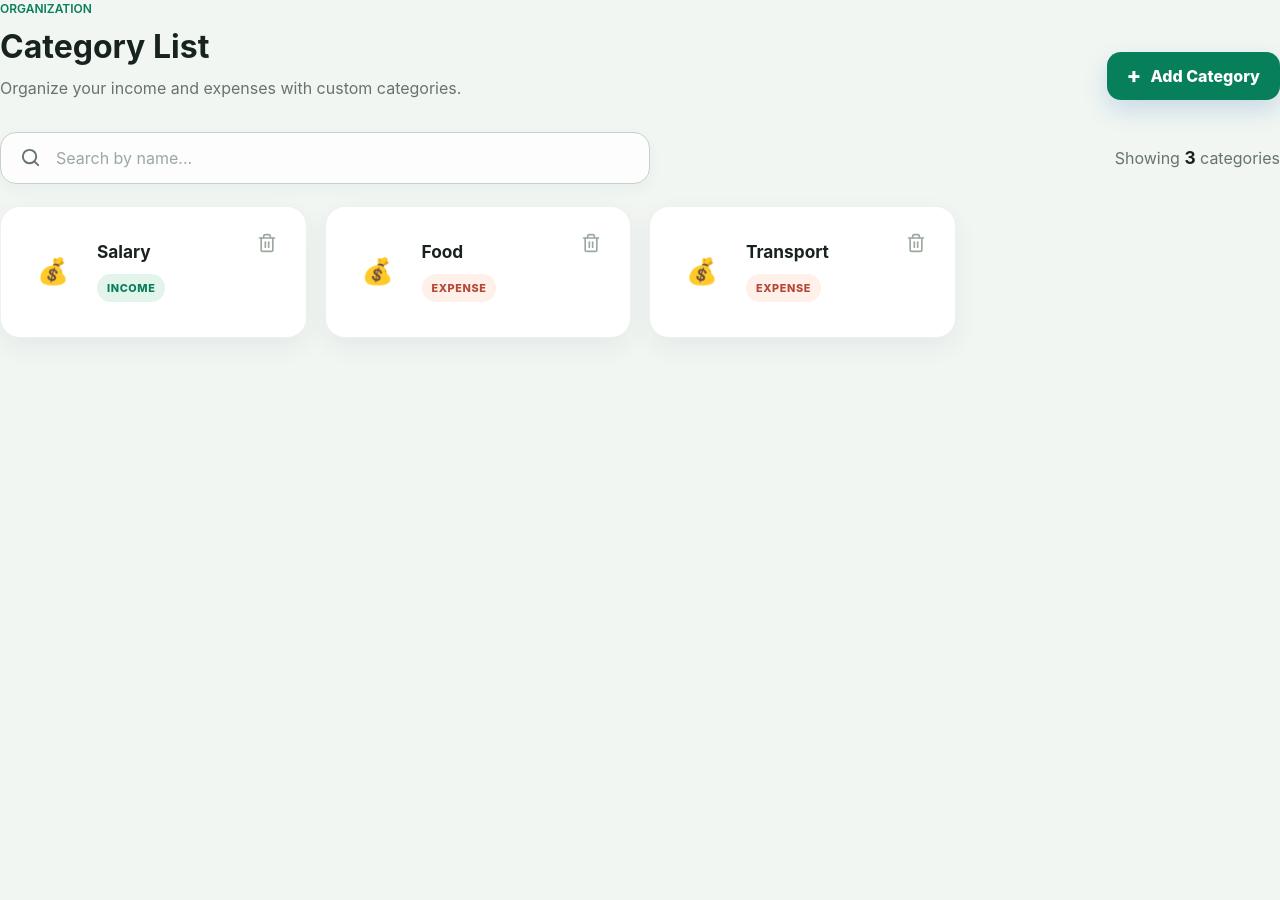
Scenario: CategoriesPage › adds a category from the embedded form
Step 1. Click the button "+ Add Category" → [1193, 76], box [1107,52,1279,100]
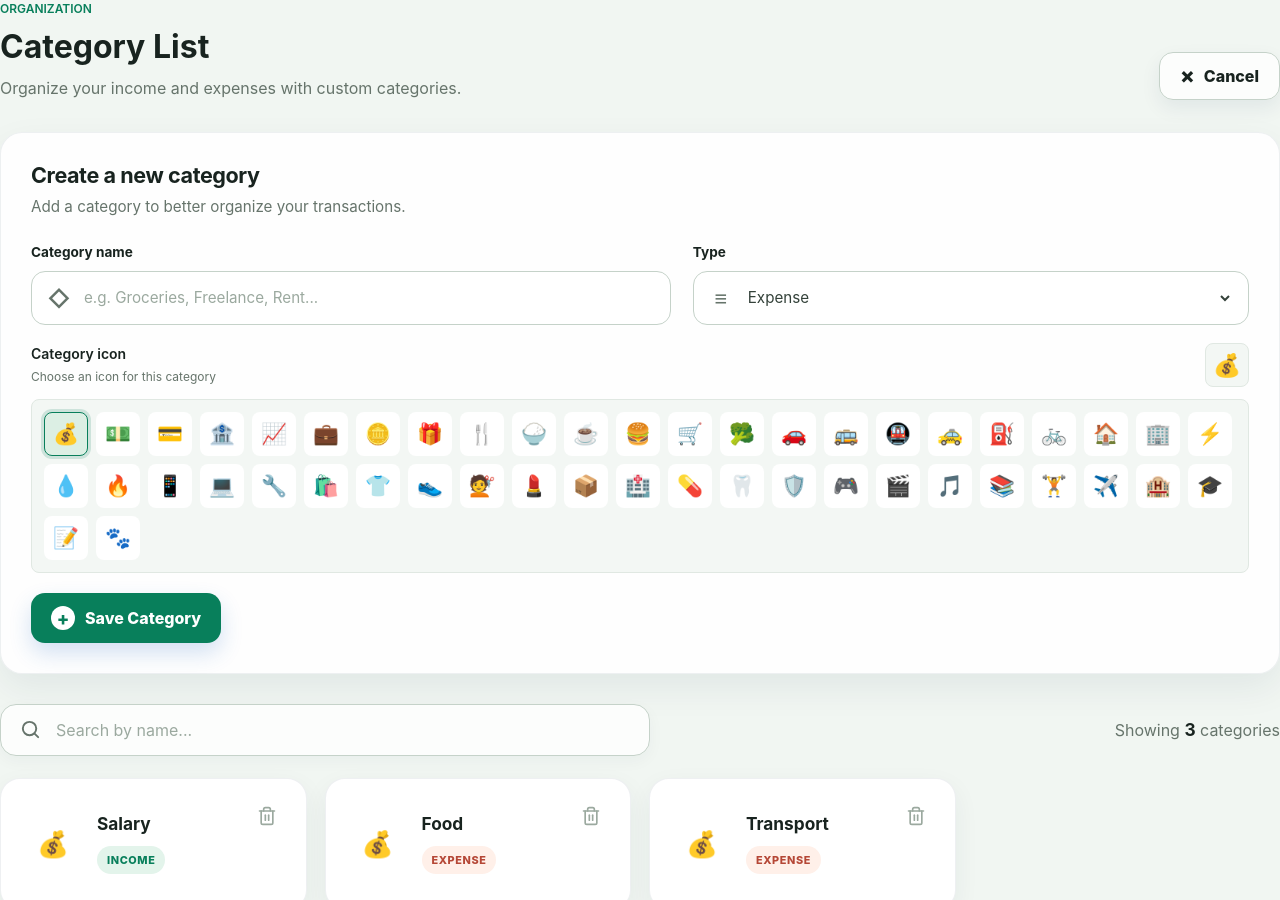
Step 2. Type "Travel" into the field labelled "Category name" → [368, 298], box [82,272,655,324]
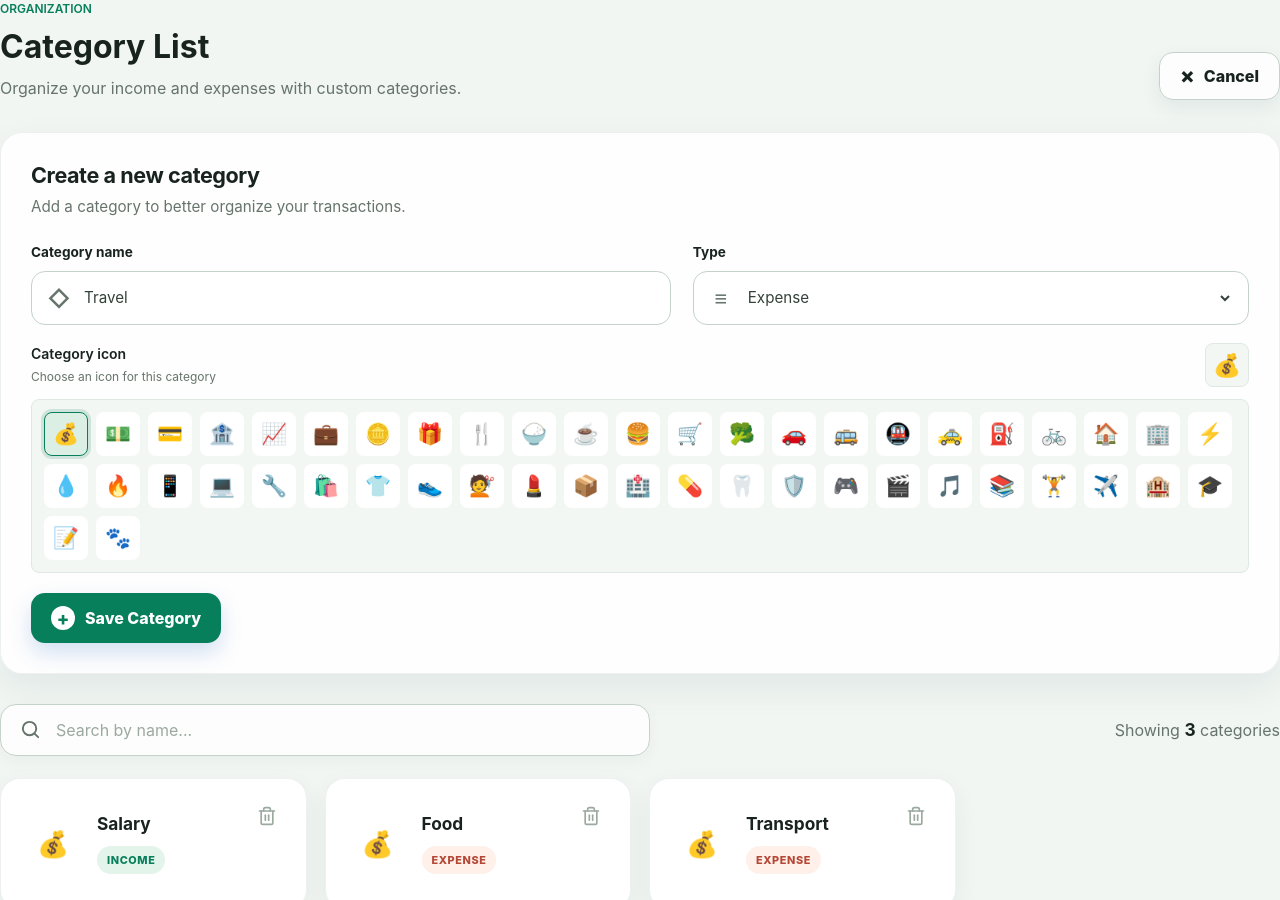
Step 3. Select "Expense" in the dropdown labelled "Type" → [988, 298], box [744,272,1233,324]
Step 4. Click the button "+ Save Category" → [126, 618], box [31,593,221,643]
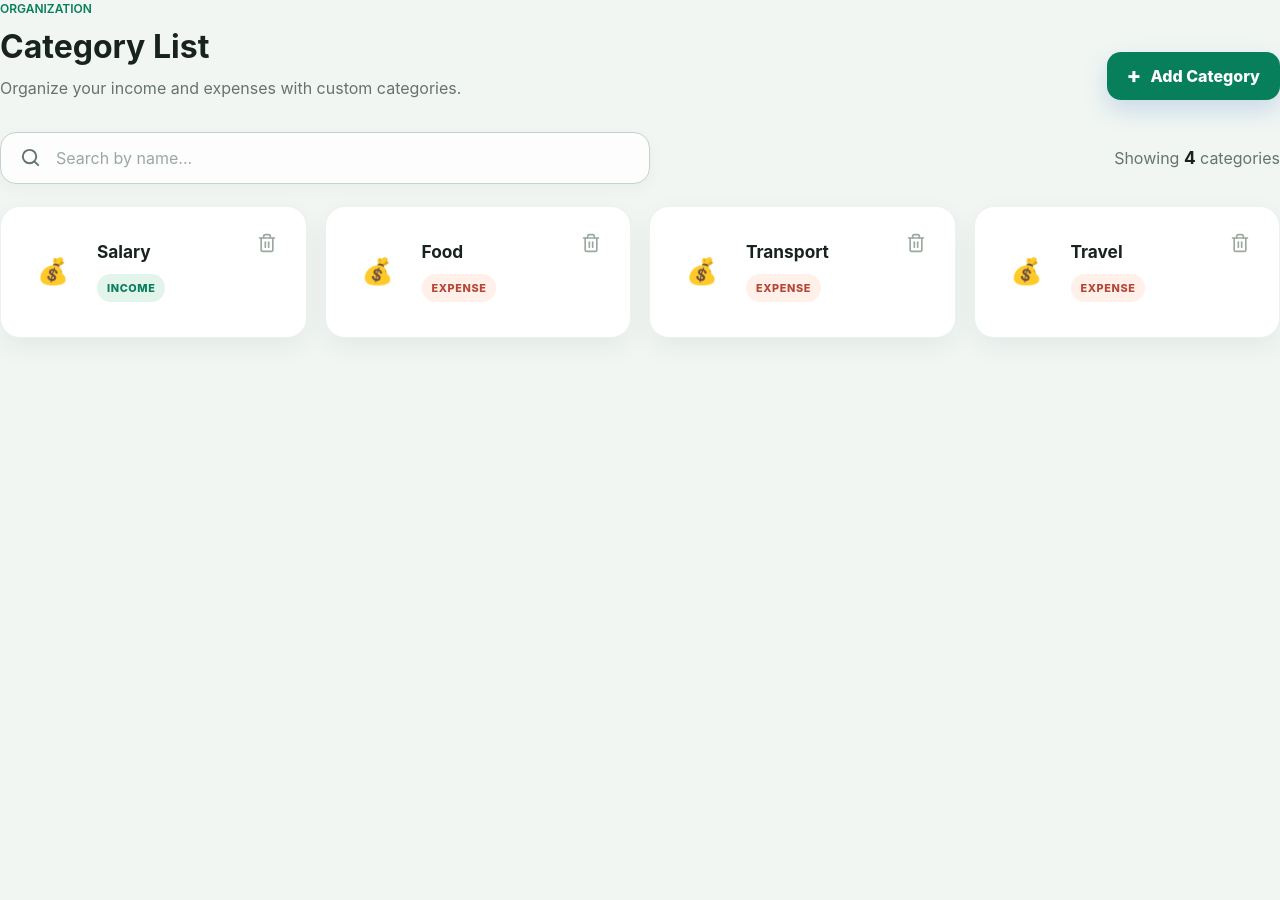
Now the heading "Travel" is shown, box [1070,241,1123,262]
